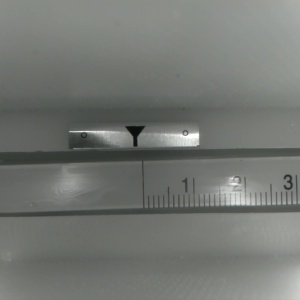1: (181, 177, 188, 193)
2: (229, 177, 240, 191)
3: (282, 174, 293, 190)
finger: (125, 127, 144, 145)
